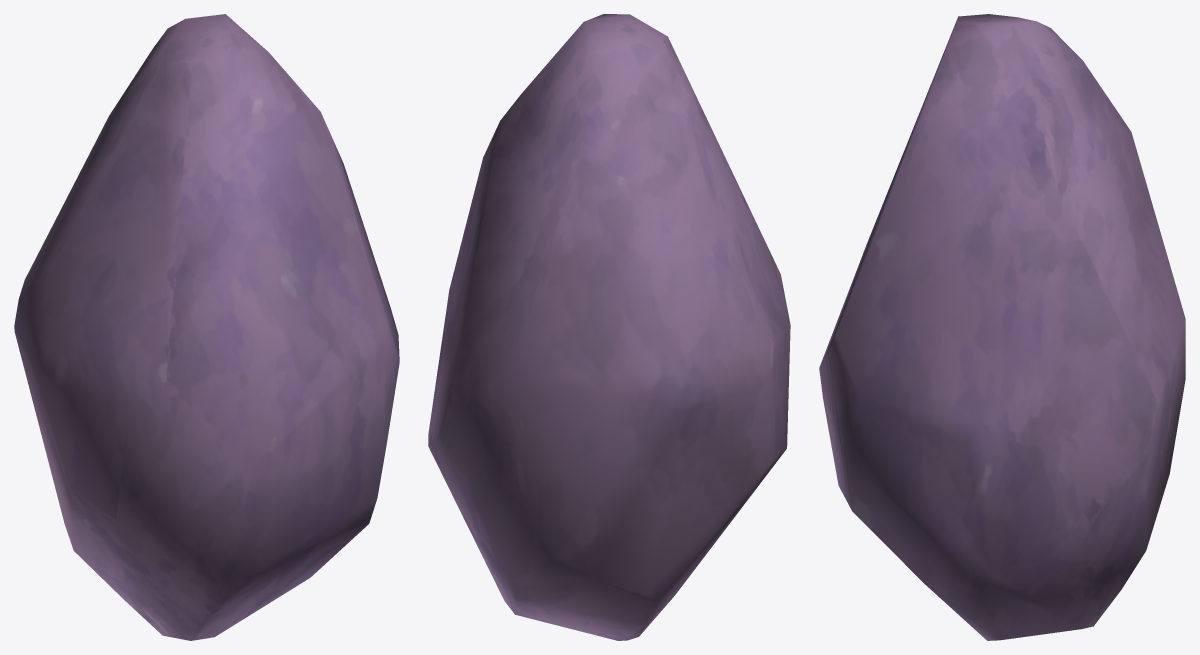
File: Rock05.fbx
3 renders of one model, left to right at view 1: azimuth 30°, elevation 25°; view 2: azimuth 150°, elevation 25°; view 3: azimuth 270°, elevation 25°, orthographic. The views are drawn at different scales.
Visible parts, largest first — view 1: Rock05_LP; view 2: Rock05_LP; view 3: Rock05_LP.
Part boxes in pixels (bbox=[...]): Rock05_LP: bbox=[14, 14, 399, 640]; Rock05_LP: bbox=[428, 14, 790, 640]; Rock05_LP: bbox=[819, 14, 1185, 640].
Bounding box in the file's own units: 2071 × 3612 × 1933.
